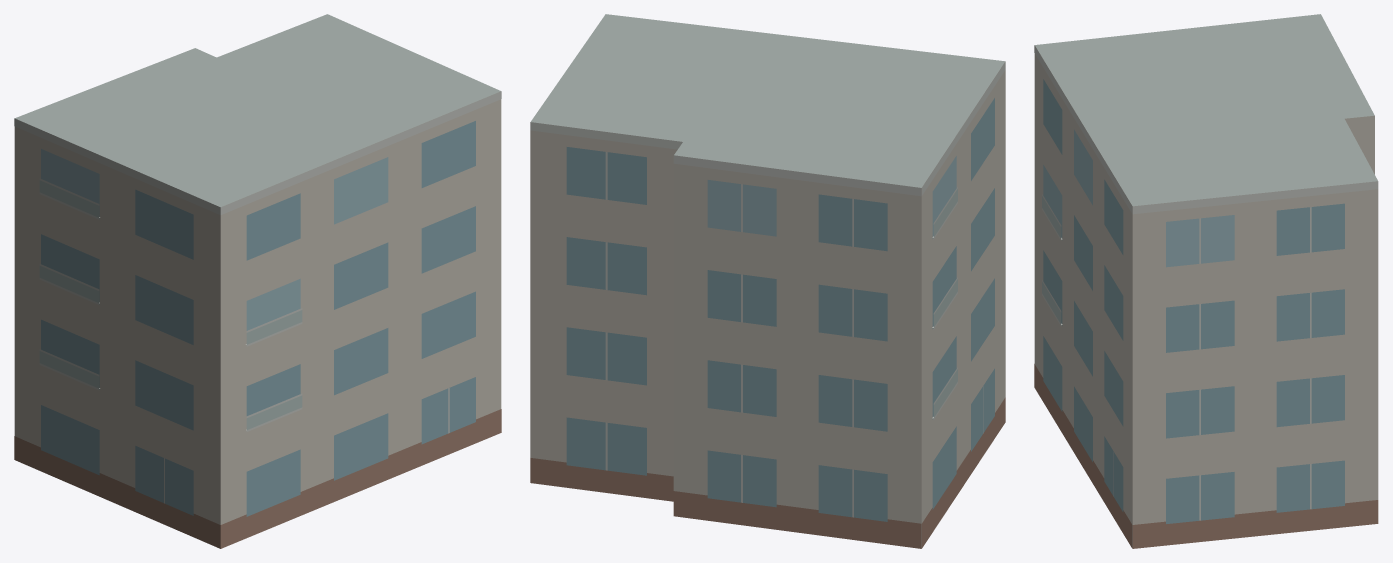
File: survey-upis-32967902.glb
3 renders of one model, left to right at view 1: azimuth 30°, elevation 25°; view 2: azimuth 150°, elevation 25°; view 3: azimuth 270°, elevation 25°, orthographic. The views are drawn at different scales.
Parts seen in each view (by area): view 1: survey-upis-32967902.tmp; view 2: survey-upis-32967902.tmp; view 3: survey-upis-32967902.tmp.
Boxes of the visible parts, x1=… form: survey-upis-32967902.tmp: x1=14, y1=14, x2=501, y2=548; survey-upis-32967902.tmp: x1=530, y1=14, x2=1005, y2=548; survey-upis-32967902.tmp: x1=1034, y1=14, x2=1378, y2=548.
Size of the model in its own units: 12.63 by 10.48 by 9.54.
